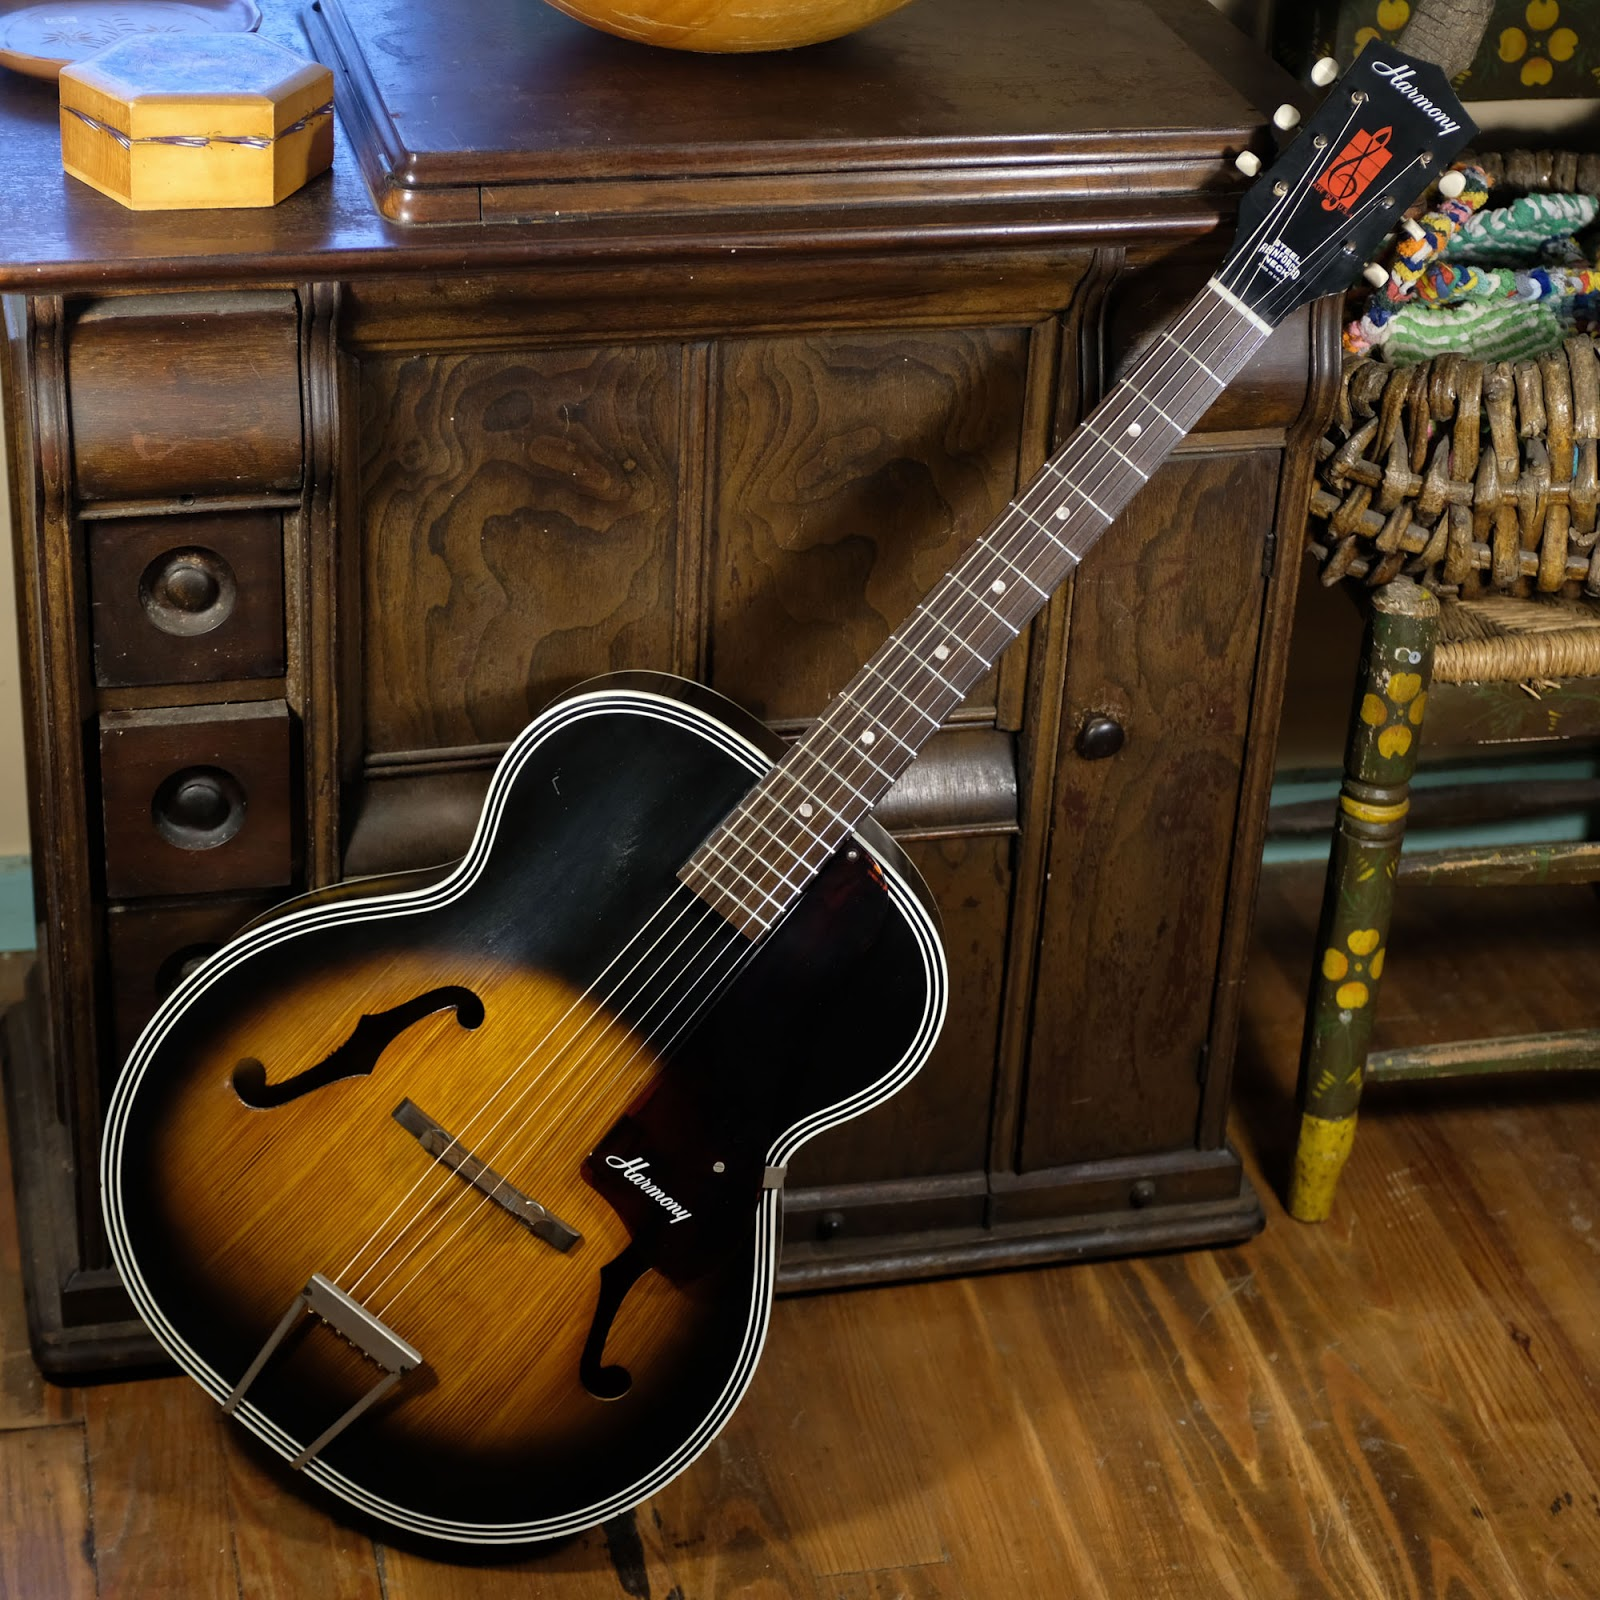guitar: (240, 13, 1563, 1468)
